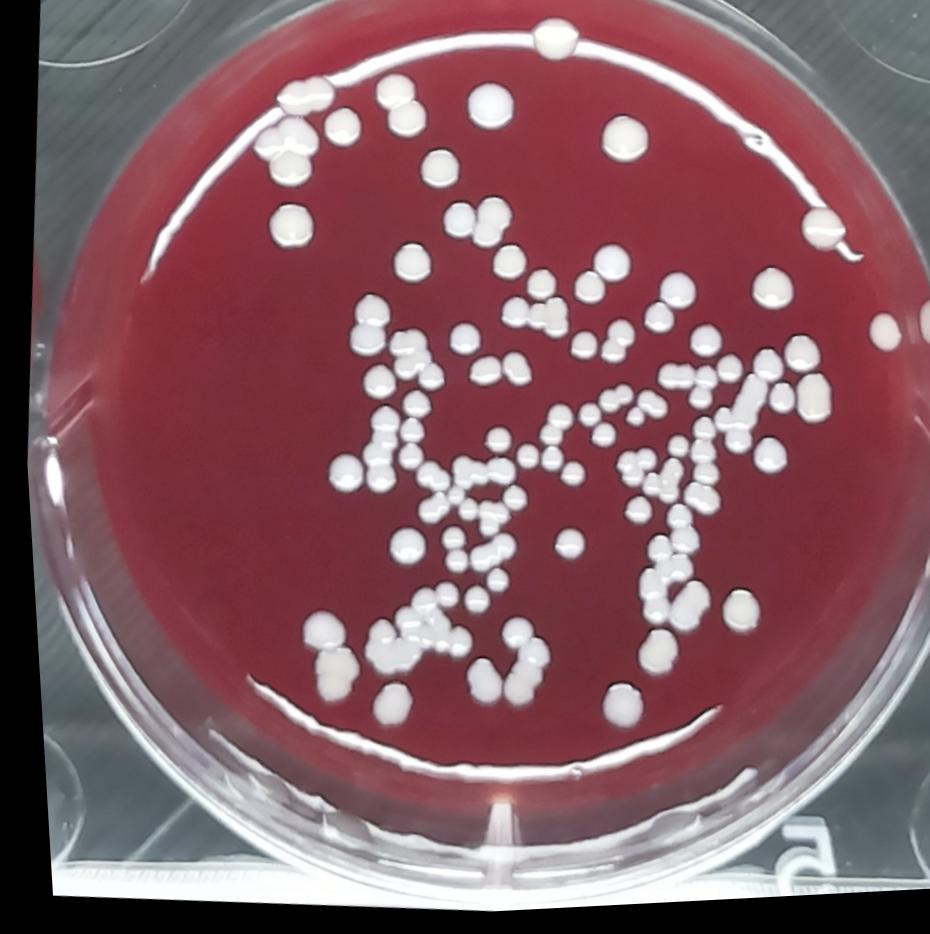staphylo-: (243, 111, 321, 195), (712, 374, 769, 467), (367, 71, 436, 147), (487, 635, 548, 716), (348, 402, 397, 502), (349, 618, 416, 684), (590, 109, 654, 173), (269, 67, 340, 124), (335, 289, 389, 363), (457, 79, 518, 140), (257, 199, 318, 260), (297, 645, 353, 709), (526, 13, 587, 71), (739, 264, 796, 324), (618, 628, 676, 686), (442, 453, 513, 500), (783, 374, 834, 436), (656, 580, 707, 642), (284, 604, 343, 657), (584, 682, 638, 739), (381, 237, 435, 292), (706, 587, 761, 641), (356, 681, 409, 736), (465, 193, 512, 253), (621, 570, 666, 630), (793, 214, 848, 263), (652, 505, 697, 564), (591, 317, 634, 377), (632, 458, 679, 512), (411, 147, 460, 198), (648, 272, 697, 323), (316, 106, 364, 158), (412, 620, 468, 663), (858, 313, 903, 366), (314, 448, 358, 502), (583, 243, 630, 293), (604, 448, 654, 495), (452, 656, 495, 710), (677, 366, 717, 422), (375, 528, 422, 575), (529, 401, 572, 452), (482, 244, 529, 290), (521, 298, 567, 345), (742, 436, 784, 486), (776, 337, 820, 383), (672, 483, 719, 526), (460, 352, 502, 399), (679, 324, 724, 367), (354, 361, 395, 406), (434, 201, 474, 247), (642, 555, 693, 591), (630, 303, 673, 345), (516, 266, 558, 309), (403, 459, 446, 500), (645, 364, 692, 401), (564, 272, 604, 315), (493, 350, 532, 394), (486, 617, 528, 657), (744, 349, 781, 394), (589, 384, 633, 421), (405, 493, 445, 533), (559, 329, 598, 370), (439, 321, 477, 363), (627, 389, 666, 428), (542, 529, 580, 568), (473, 425, 510, 463), (707, 355, 745, 392), (449, 587, 486, 624), (488, 298, 526, 333), (759, 386, 793, 424), (529, 444, 564, 480), (393, 390, 428, 425), (386, 444, 423, 477), (612, 497, 647, 531), (580, 424, 613, 458), (505, 443, 537, 478), (423, 581, 454, 617), (408, 361, 441, 394), (550, 463, 584, 495), (493, 485, 525, 519), (474, 567, 505, 601), (566, 402, 597, 436), (430, 526, 461, 559), (635, 539, 668, 570), (432, 549, 464, 580), (391, 418, 424, 448), (681, 418, 713, 448), (681, 441, 711, 472), (446, 497, 475, 528), (657, 438, 685, 466), (616, 410, 639, 437)
